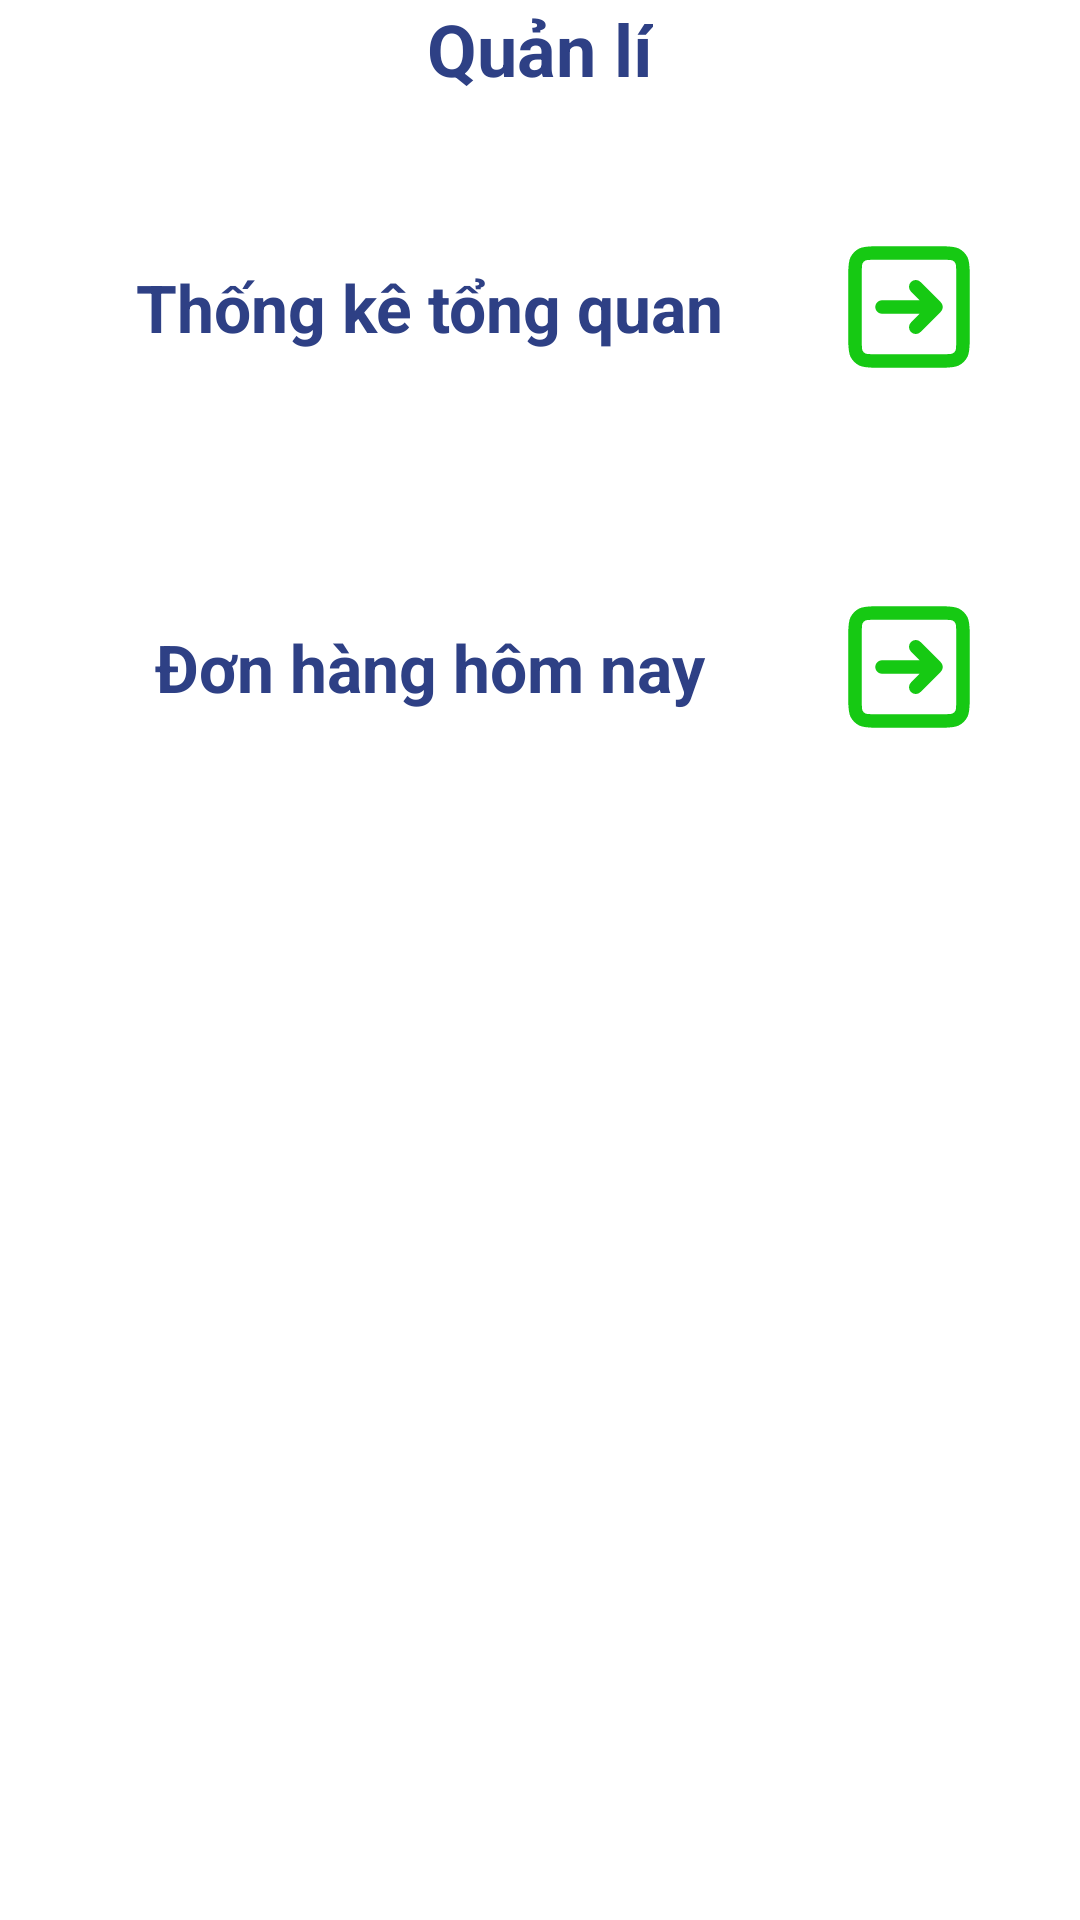

Locate icon controls on the screen. Image size 1080 × 1920, boxes as (x1, y1, x2, y2).
enter: (848, 246, 970, 368), (848, 606, 970, 728)
